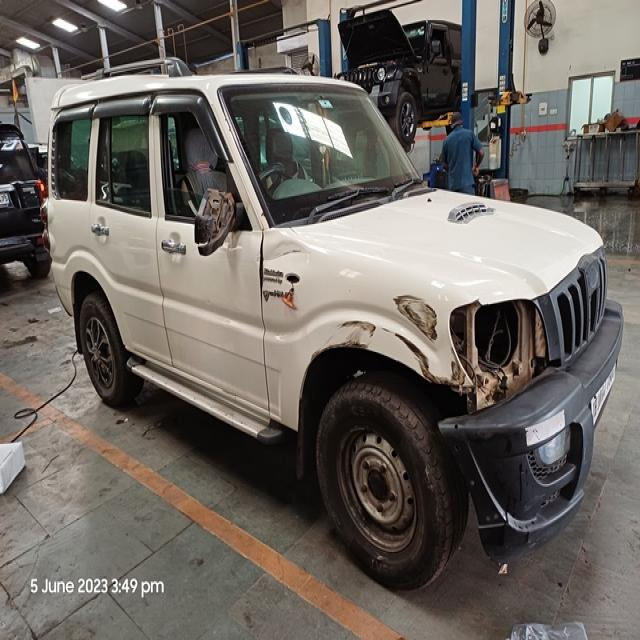damage: (447, 300, 551, 409), (401, 335, 464, 387), (193, 186, 236, 259), (391, 287, 440, 339), (331, 314, 388, 351), (267, 234, 315, 265), (285, 265, 301, 289)
